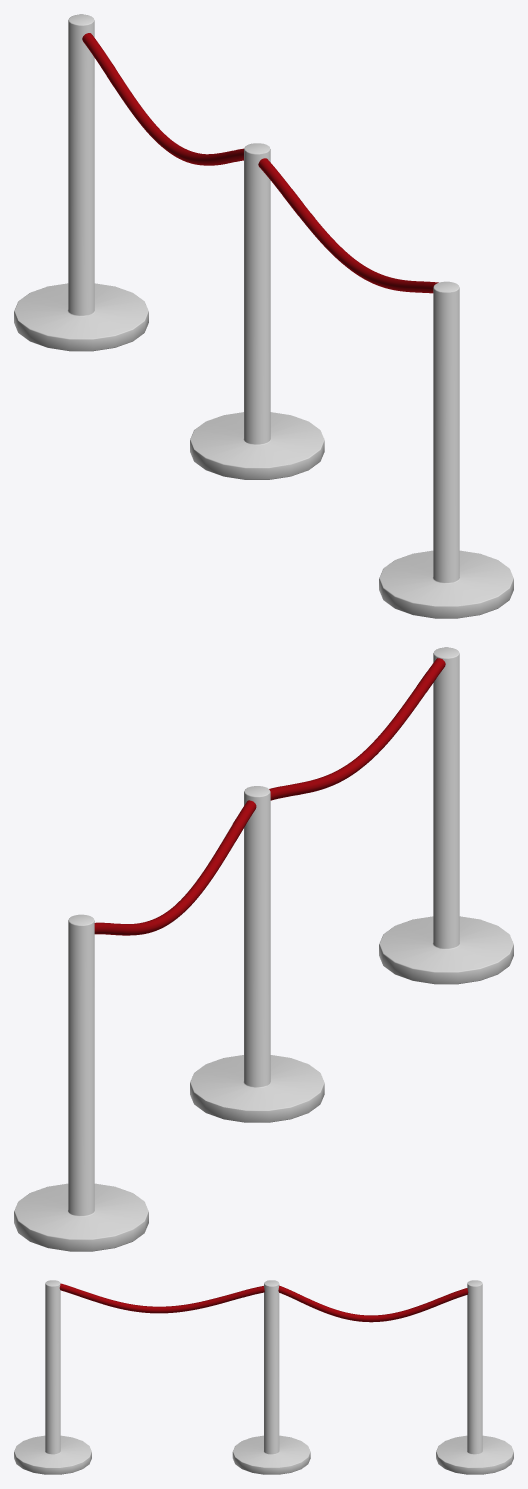
File: Pembatas.fbx
The picture shows the model from 3 angles, top to bottom: view 1: azimuth 30°, elevation 25°; view 2: azimuth 150°, elevation 25°; view 3: azimuth 270°, elevation 25°; orthographic projection. The views are drawn at different scales.
Visible parts, largest first — view 1: Cylinder; view 2: Cylinder; view 3: Cylinder.
Boxes of the visible parts, x1=… form: Cylinder: x1=14, y1=14, x2=513, y2=618; Cylinder: x1=14, y1=647, x2=513, y2=1251; Cylinder: x1=14, y1=1280, x2=513, y2=1474.
Bounding box in the file's own units: 45.16 × 114 × 294.
